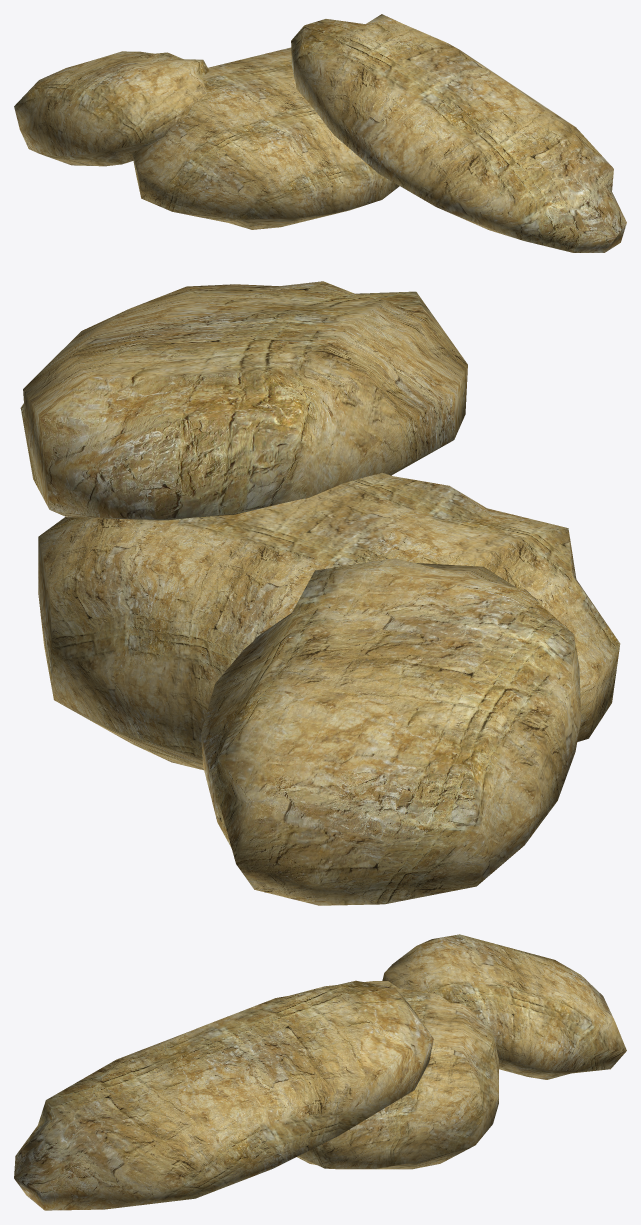
The model's file is rocks.dae.
3 renders of one model, top to bottom at view 1: azimuth 30°, elevation 25°; view 2: azimuth 150°, elevation 25°; view 3: azimuth 270°, elevation 25°, orthographic. The views are drawn at different scales.
Visible parts, largest first — view 1: Rock_3, Rock_1, Rock_2; view 2: Rock_2, Rock_3, Rock_1; view 3: Rock_3, Rock_2, Rock_1.
Boxes of the visible parts, x1=… form: Rock_3: x1=291, y1=14, x2=626, y2=252; Rock_1: x1=132, y1=47, x2=399, y2=229; Rock_2: x1=14, y1=51, x2=209, y2=166; Rock_2: x1=201, y1=558, x2=580, y2=905; Rock_3: x1=20, y1=281, x2=467, y2=520; Rock_1: x1=38, y1=472, x2=620, y2=770; Rock_3: x1=14, y1=980, x2=433, y2=1210; Rock_2: x1=382, y1=934, x2=626, y2=1079; Rock_1: x1=290, y1=981, x2=498, y2=1169.
Size of the model in its own units: 4.9 by 6.1 by 1.83.
Materials: 1 (1 with a texture image).
